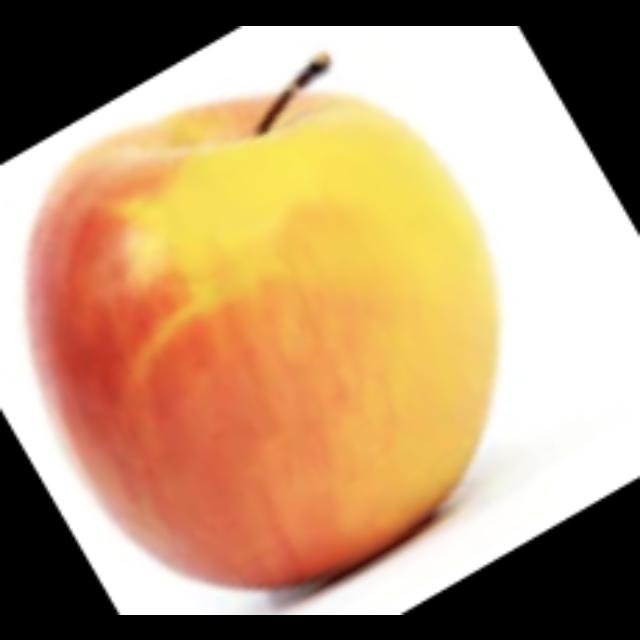Apel Segar: (13, 53, 513, 607)
